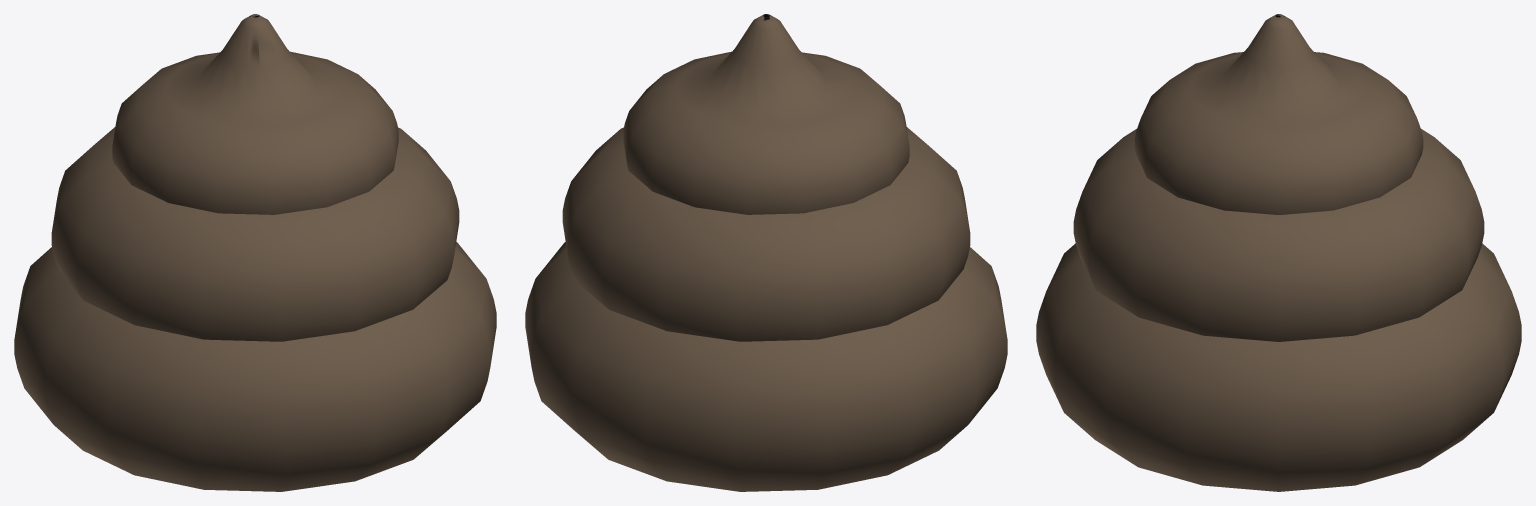
File: poop.obj
3 renders of one model, left to right at view 1: azimuth 30°, elevation 25°; view 2: azimuth 150°, elevation 25°; view 3: azimuth 270°, elevation 25°, orthographic.
Parts seen in each view (by area): view 1: Poop; view 2: Poop; view 3: Poop.
Part boxes in pixels (x1,y1,x2,y2): Poop: [14, 14, 496, 491]; Poop: [525, 14, 1007, 491]; Poop: [1036, 14, 1521, 491].
Bounding box in the file's own units: 1.96 × 1.82 × 1.96.
1 material, 1 textured.
